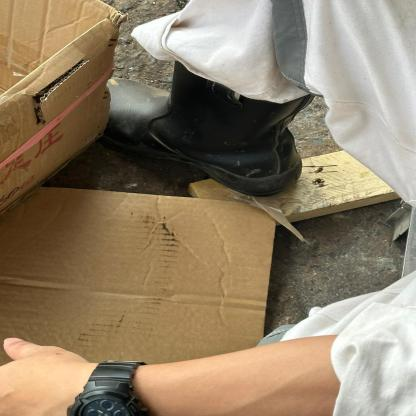bota: (95, 37, 324, 209)
